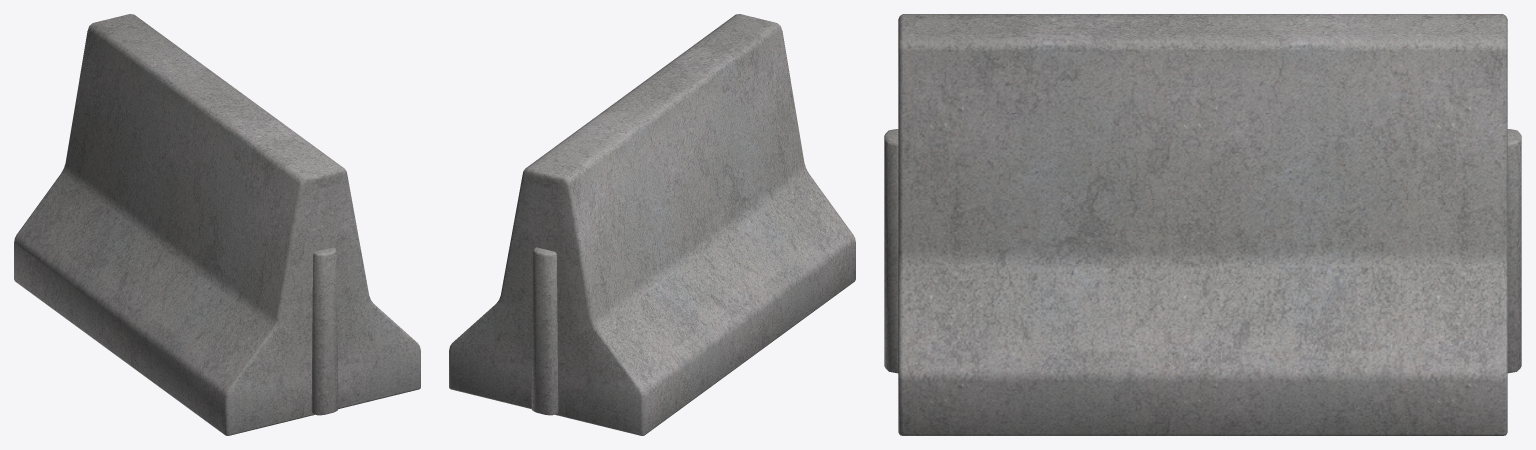
The model's file is simple_jersey_barrier.glb.
The picture shows the model from 3 angles, left to right: view 1: azimuth 30°, elevation 25°; view 2: azimuth 150°, elevation 25°; view 3: azimuth 270°, elevation 25°; orthographic projection. The views are drawn at different scales.
Parts seen in each view (by area): view 1: Object_2; view 2: Object_2; view 3: Object_2.
Boxes of the visible parts, x1=… form: Object_2: x1=14, y1=14, x2=420, y2=435; Object_2: x1=449, y1=14, x2=855, y2=435; Object_2: x1=884, y1=14, x2=1521, y2=435.
Size of the model in its own units: 2.54 by 2.98 by 5.02.
Materials: 1 (1 with a texture image).
